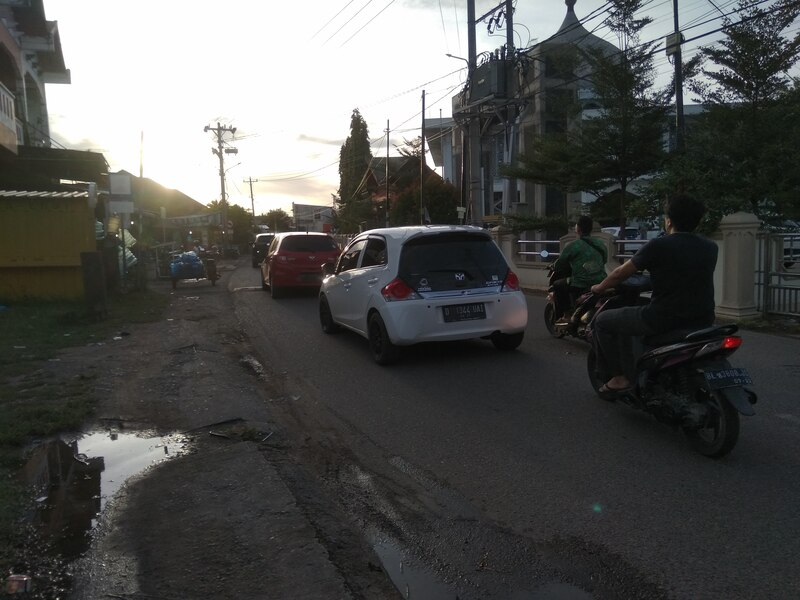car: (316, 219, 533, 372), (258, 228, 349, 305), (250, 232, 285, 271)
motorcycle: (578, 257, 762, 468), (538, 246, 641, 352)
